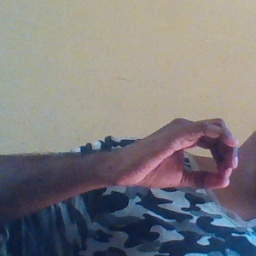O: (129, 110, 248, 195)
